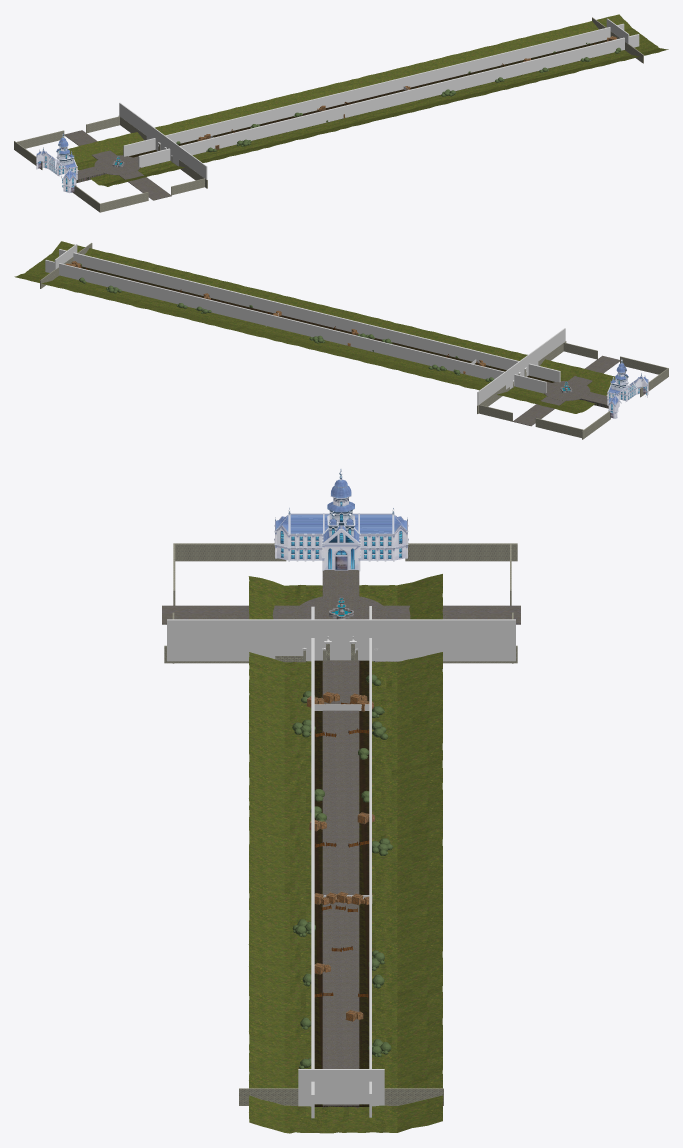
Rendered from road_to_academy.glb.
3 views of the same model, one above another, from view 1: azimuth 30°, elevation 25°; view 2: azimuth 150°, elevation 25°; view 3: azimuth 270°, elevation 25° (orthographic). The views are drawn at different scales.
Visible parts, largest first — view 1: Plane, physics_cube.015, physics_cube.010, physics_cube.024, R_Material.004_0.001, road_line.005, road_line.003, road_circle.001, wall.015, wall.013, wall.010, wall.011; view 2: Plane, physics_cube.010, physics_cube.015, physics_cube.024, R_Material.004_0.001, road_line.003, road_line.005, road_circle.001, wall.013, wall.015, road_line.004, wall.011 (+1 smaller); view 3: Plane, road_line.004, physics_cube.024, R_Material.004_0.001, road_line.005, road_line.003, physics_cube.016, wall.012, wall.014, physics_cube.015, wall.016, road_circle.001 (+2 smaller).
Boxes of the visible parts, x1,y1,x2,y2 form: Plane: (68, 14, 668, 186); physics_cube.015: (138, 34, 639, 167); physics_cube.010: (123, 23, 624, 156); physics_cube.024: (119, 102, 207, 179); R_Material.004_0.001: (36, 132, 77, 193); road_line.005: (129, 39, 606, 166); road_line.003: (64, 130, 171, 200); road_circle.001: (94, 155, 140, 175); wall.015: (99, 192, 148, 212); wall.013: (15, 130, 64, 150); wall.010: (86, 116, 119, 132); wall.011: (171, 178, 204, 195); Plane: (14, 241, 615, 413); physics_cube.010: (45, 260, 546, 393); physics_cube.015: (59, 249, 560, 382); physics_cube.024: (477, 328, 565, 405); R_Material.004_0.001: (607, 358, 648, 418); road_line.003: (512, 355, 619, 426); road_line.005: (81, 266, 554, 382); road_circle.001: (544, 381, 590, 400); wall.013: (535, 418, 584, 438); wall.015: (620, 356, 668, 376); road_line.004: (81, 268, 551, 385); wall.011: (563, 342, 597, 359); Plane: (248, 574, 442, 1133); road_line.004: (322, 660, 359, 1107); physics_cube.024: (167, 619, 515, 661); R_Material.004_0.001: (274, 469, 408, 571); road_line.005: (314, 660, 369, 1106); road_line.003: (162, 605, 520, 624); physics_cube.016: (298, 1069, 384, 1106); wall.012: (405, 543, 517, 561); wall.014: (174, 543, 286, 561); physics_cube.015: (311, 606, 314, 1118); wall.016: (239, 1088, 443, 1105); road_circle.001: (294, 594, 388, 619).
Bounding box in the file's own units: 528 × 42.5 × 138.
21 materials, 18 textured.
